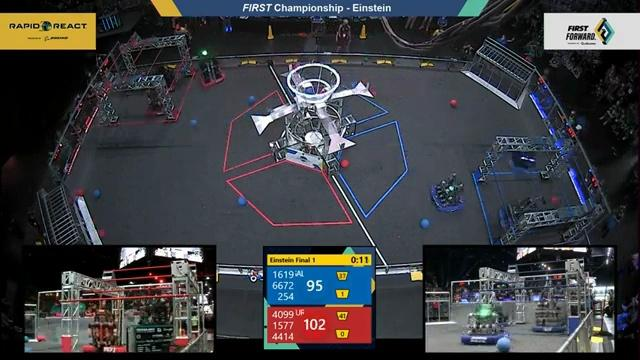robot: (81, 304, 126, 353), (460, 302, 509, 346), (497, 194, 543, 237), (500, 135, 541, 175), (531, 287, 566, 333), (429, 172, 467, 213), (192, 49, 229, 89), (146, 55, 184, 93), (143, 86, 173, 117)
